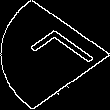L_SE: (14, 26, 96, 84)
